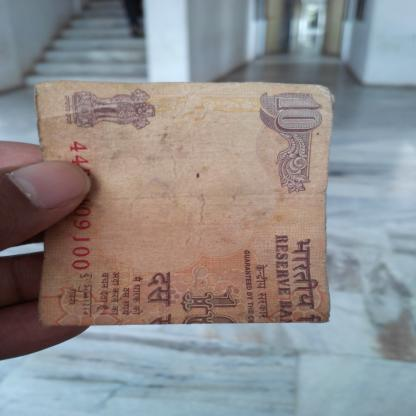Old10Front: (34, 79, 336, 328)
